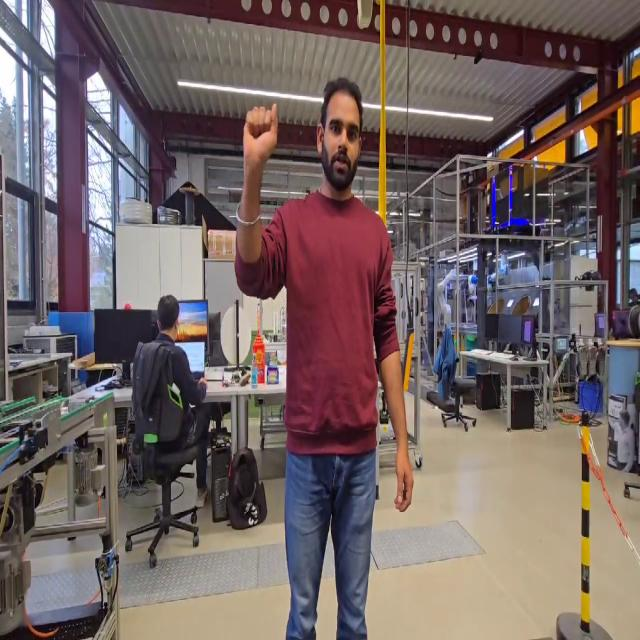closed_fist: (240, 96, 284, 173)
